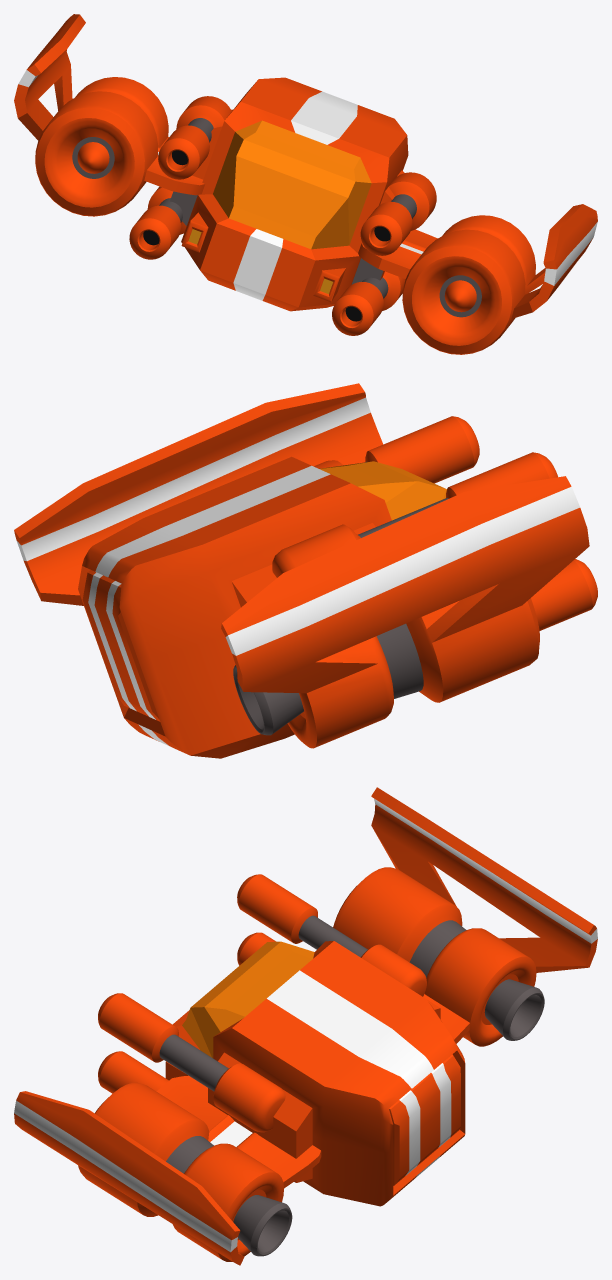
File: SpaceShip01.blend.fbx
The picture shows the model from 3 angles, top to bottom: view 1: azimuth 30°, elevation 25°; view 2: azimuth 150°, elevation 25°; view 3: azimuth 270°, elevation 25°; orthographic projection. The views are drawn at different scales.
Parts seen in each view (by area): view 1: Cube.003; view 2: Cube.003; view 3: Cube.003.
Part boxes in pixels (x1=…): Cube.003: x1=14, y1=14, x2=597, y2=354; Cube.003: x1=14, y1=383, x2=597, y2=758; Cube.003: x1=14, y1=787, x2=597, y2=1265.
Bounding box in the file's own units: 209 × 116 × 211.
